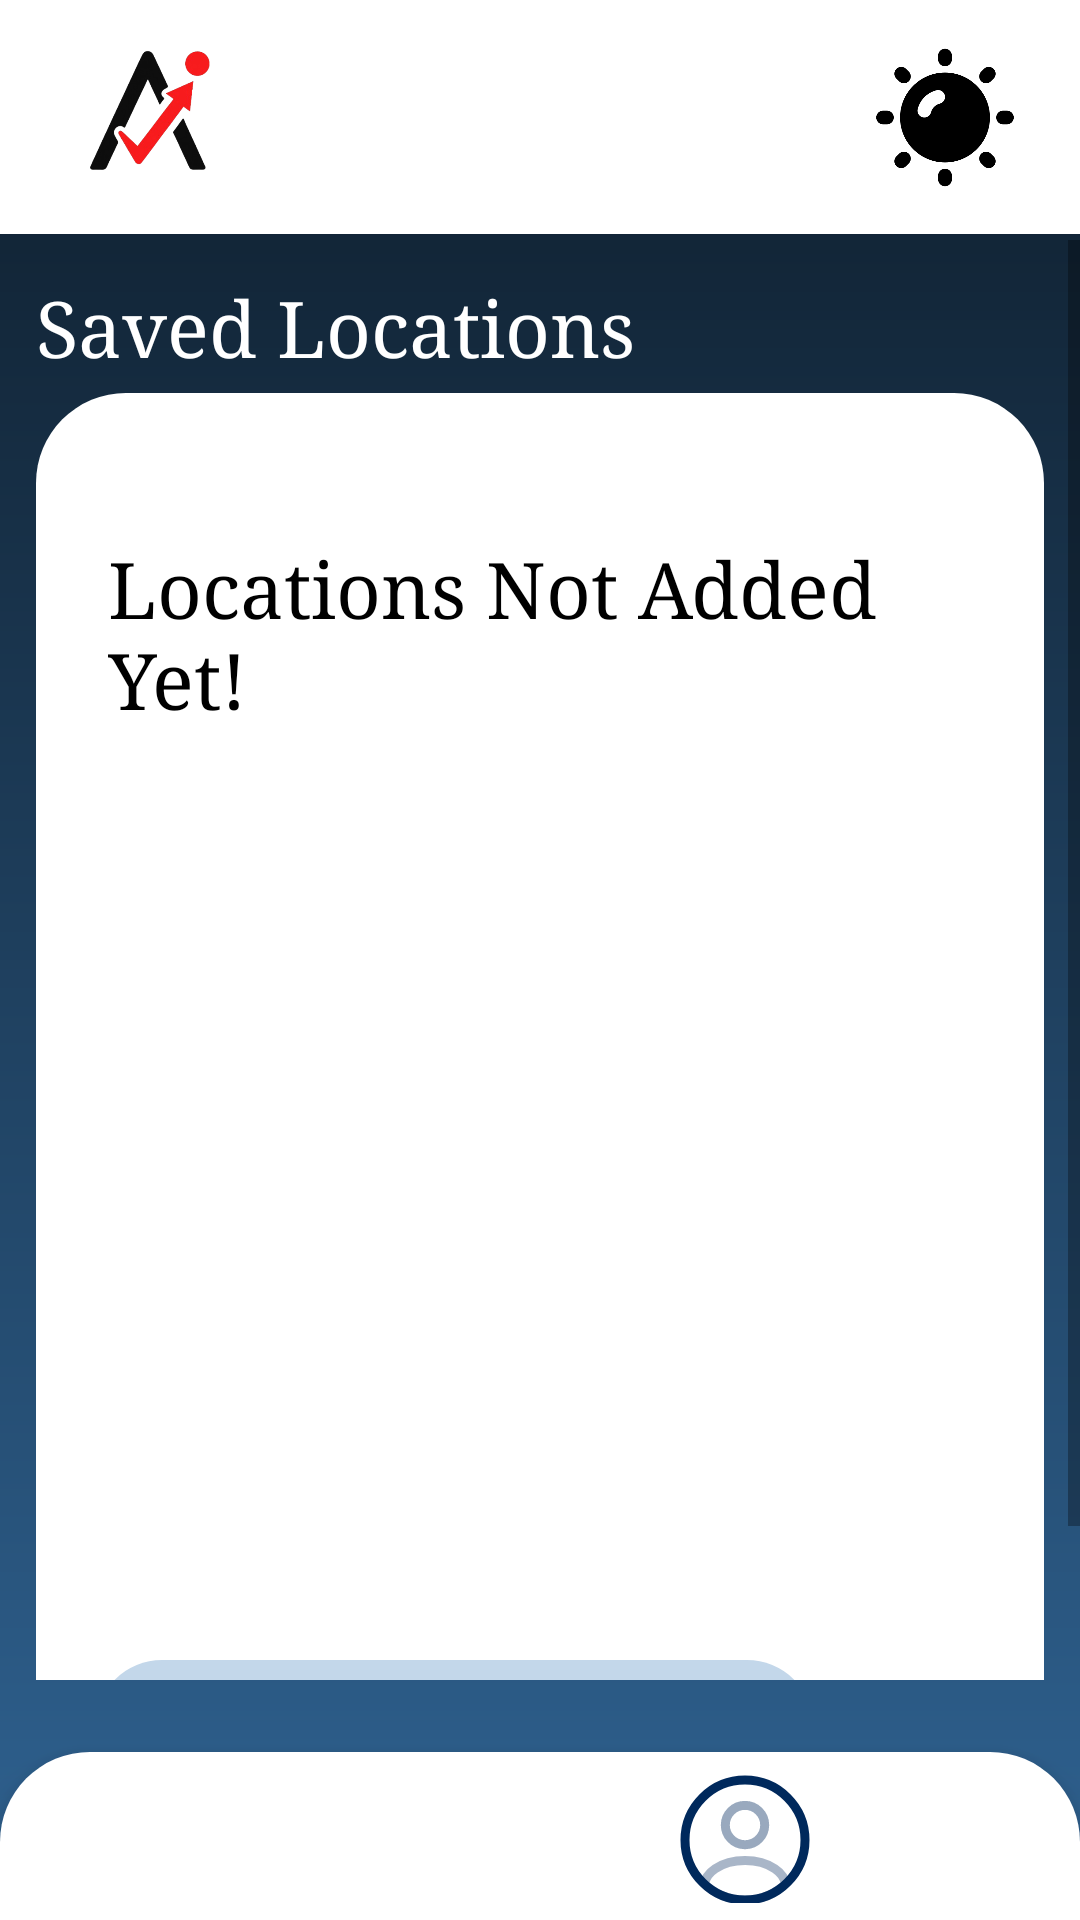

Screen size 1080px x 1920px. Icon name, then its box in pixels as (x1, y1, x2, y2):
profile: (680, 1775, 810, 1903)
summer: (876, 48, 1014, 187)
